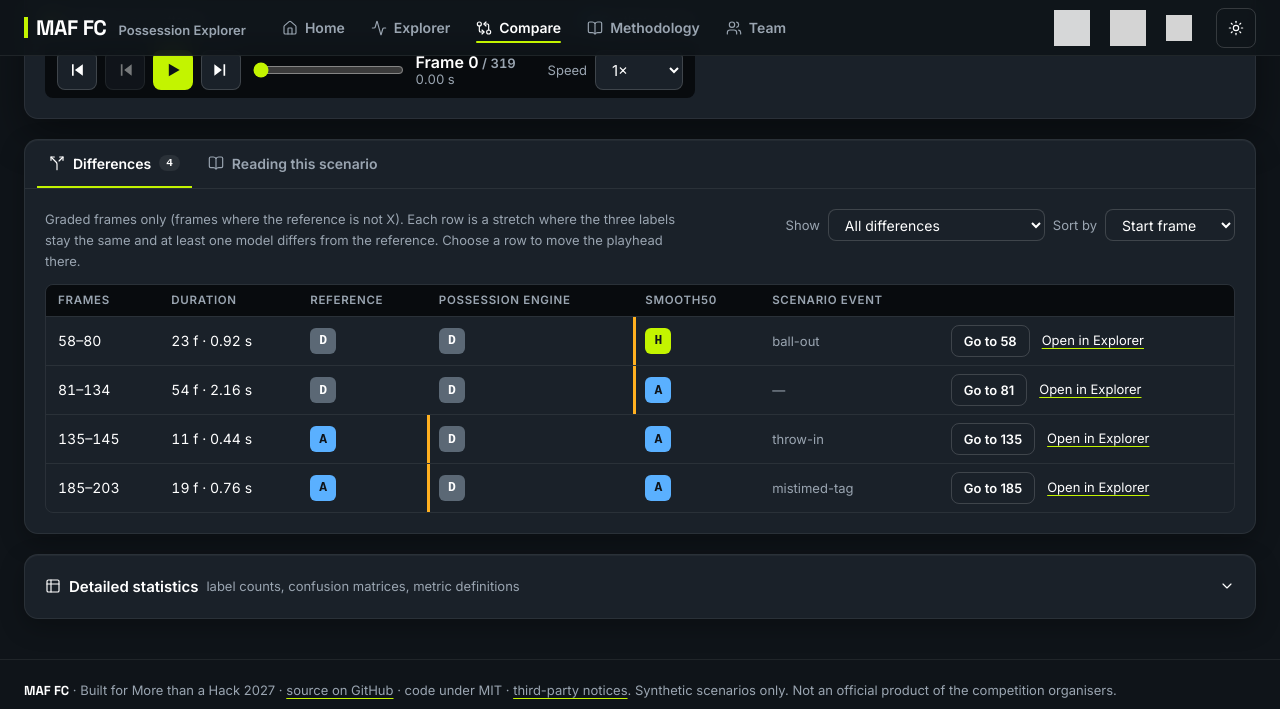
Test case: Compare redesign › shows the difference at the selected frame
(page scrolled)
Expected: the element with test id "readout" is shown, [416, 52, 516, 87]
Click the button with aria-label "Go to frame 185": (993, 488) [951, 472, 1035, 504]
(page scrolled)
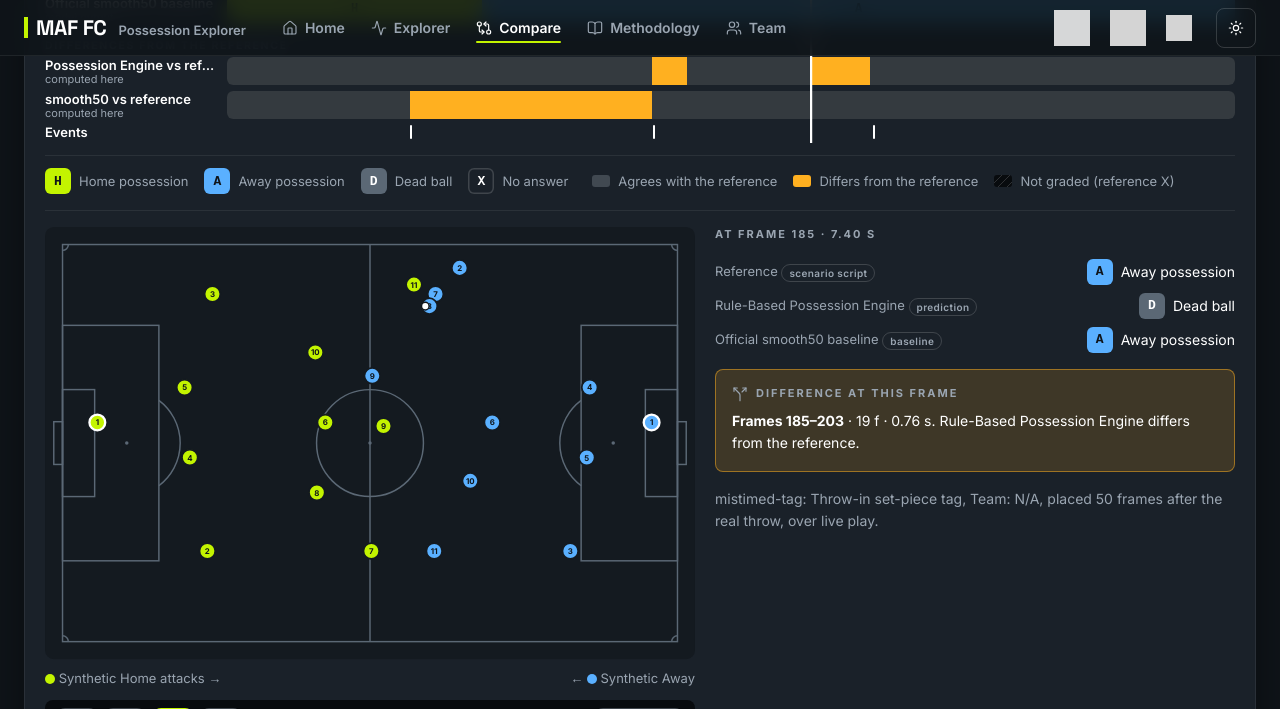
Result: the element with test id "selected-difference" shows "Frames 185–203" at [715, 369, 1235, 472]
